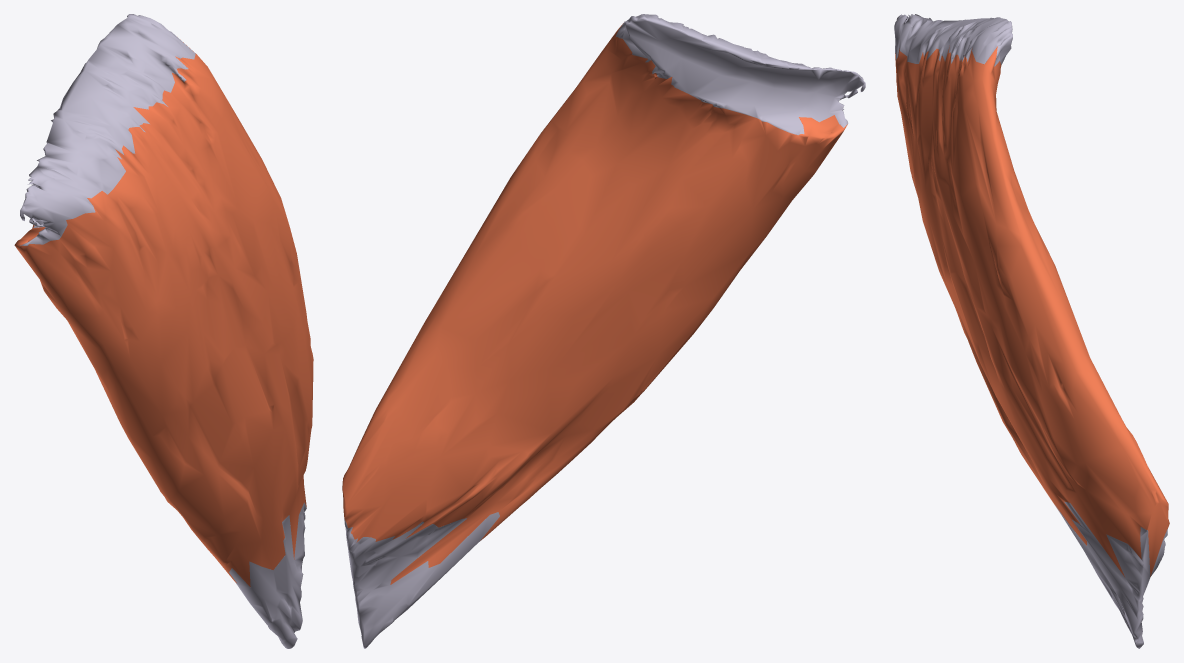
File: Pectineus_left.glb
3 views of the same model, side by side, from view 1: azimuth 30°, elevation 25°; view 2: azimuth 150°, elevation 25°; view 3: azimuth 270°, elevation 25° (orthographic). The views are drawn at different scales.
Visible parts, largest first — view 1: Pectineus_muscle.l_Generated_Mesh_From_X3D.302; view 2: Pectineus_muscle.l_Generated_Mesh_From_X3D.302; view 3: Pectineus_muscle.l_Generated_Mesh_From_X3D.302.
Part boxes in pixels (box(x1,y1,x2,y2)): Pectineus_muscle.l_Generated_Mesh_From_X3D.302: box(14, 14, 313, 648); Pectineus_muscle.l_Generated_Mesh_From_X3D.302: box(342, 14, 865, 648); Pectineus_muscle.l_Generated_Mesh_From_X3D.302: box(894, 14, 1169, 648).
Size of the model in its own units: 0.0828 by 0.1314 by 0.0607.
